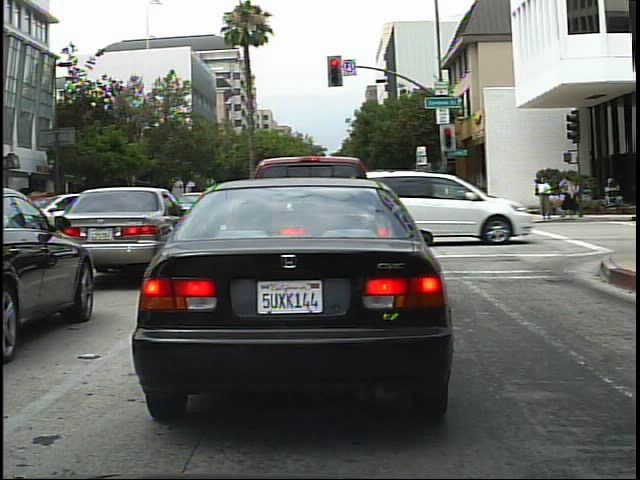person: (560, 171, 583, 222), (536, 171, 559, 221)
